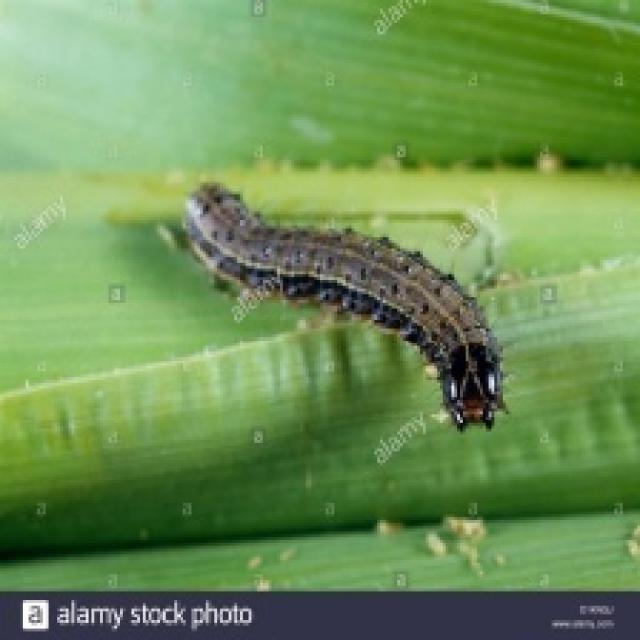Plaga: (147, 169, 522, 444)
